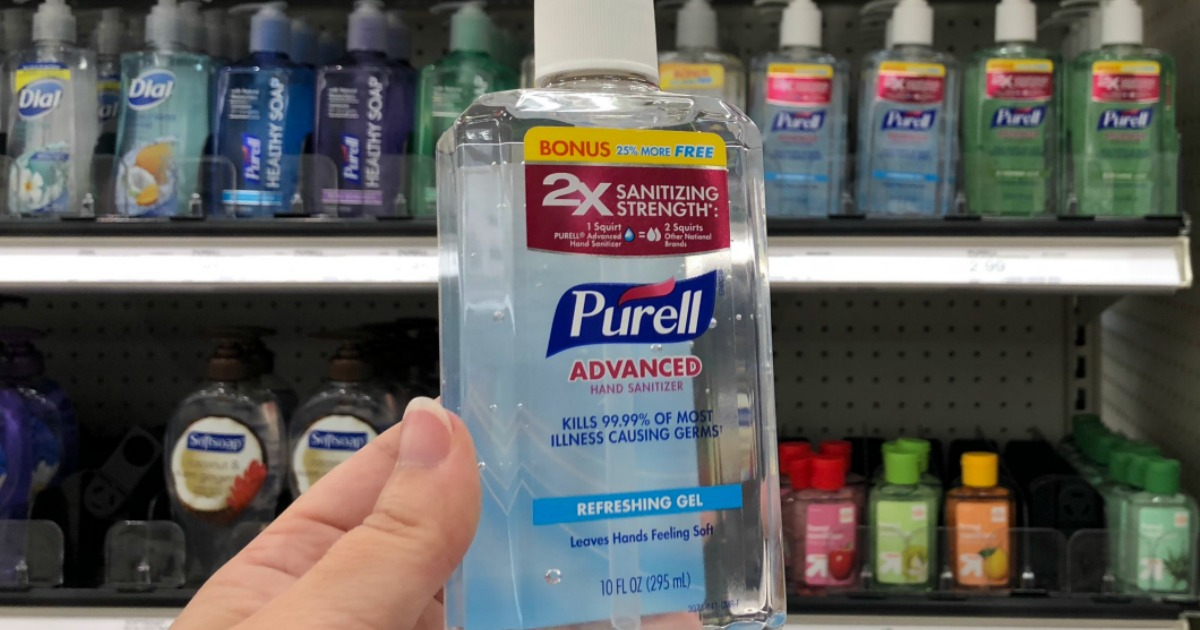Sanitizer: (425, 2, 799, 630), (956, 2, 1073, 237), (742, 2, 857, 233), (1066, 1, 1180, 233), (847, 5, 963, 228), (649, 1, 755, 233)
